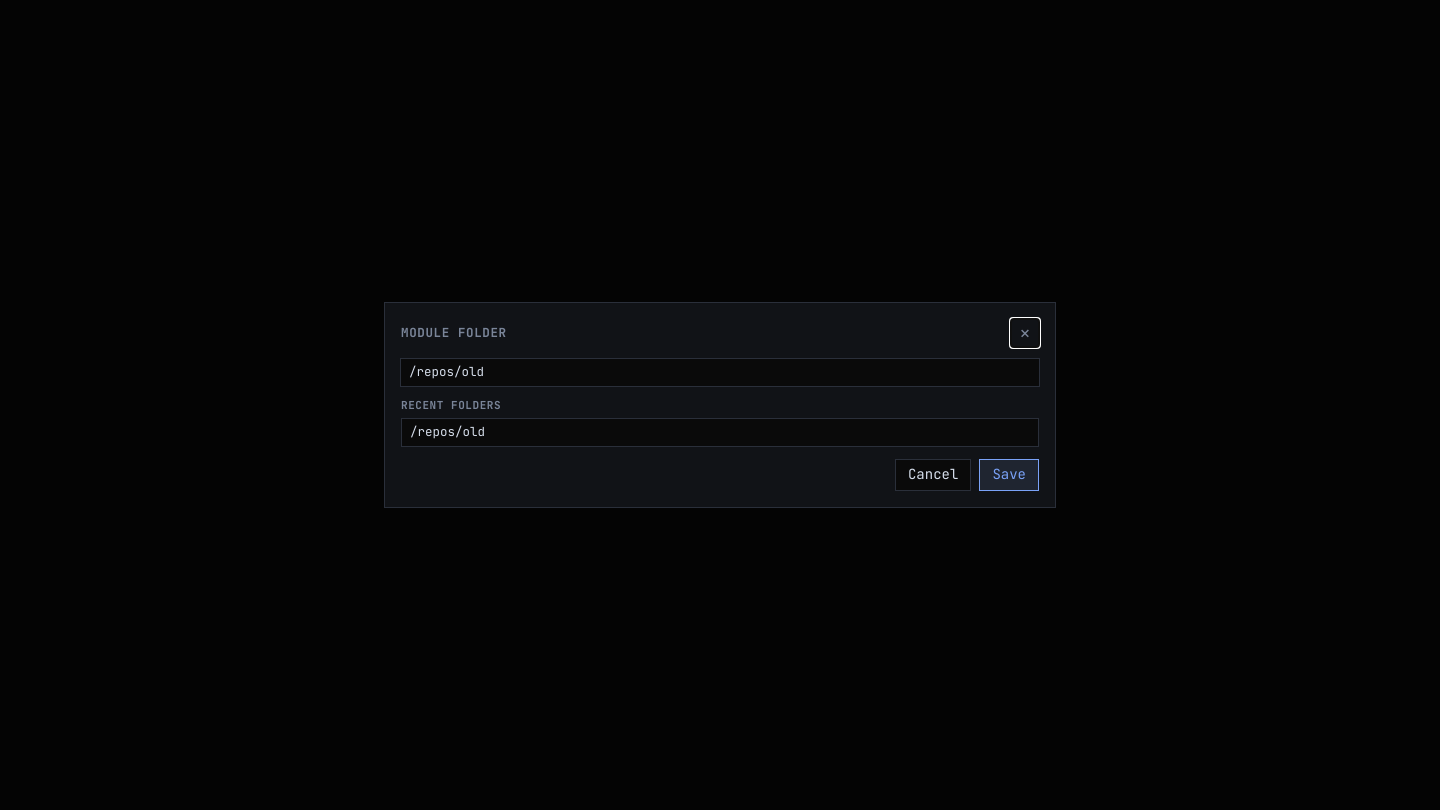
provider directory trust acceptance › [overhaul-301] saves an already-trusted folder without confirmation
Step 1. Replace the text in the field with "/repos/new" → (720, 373), box [401,359,1039,386]
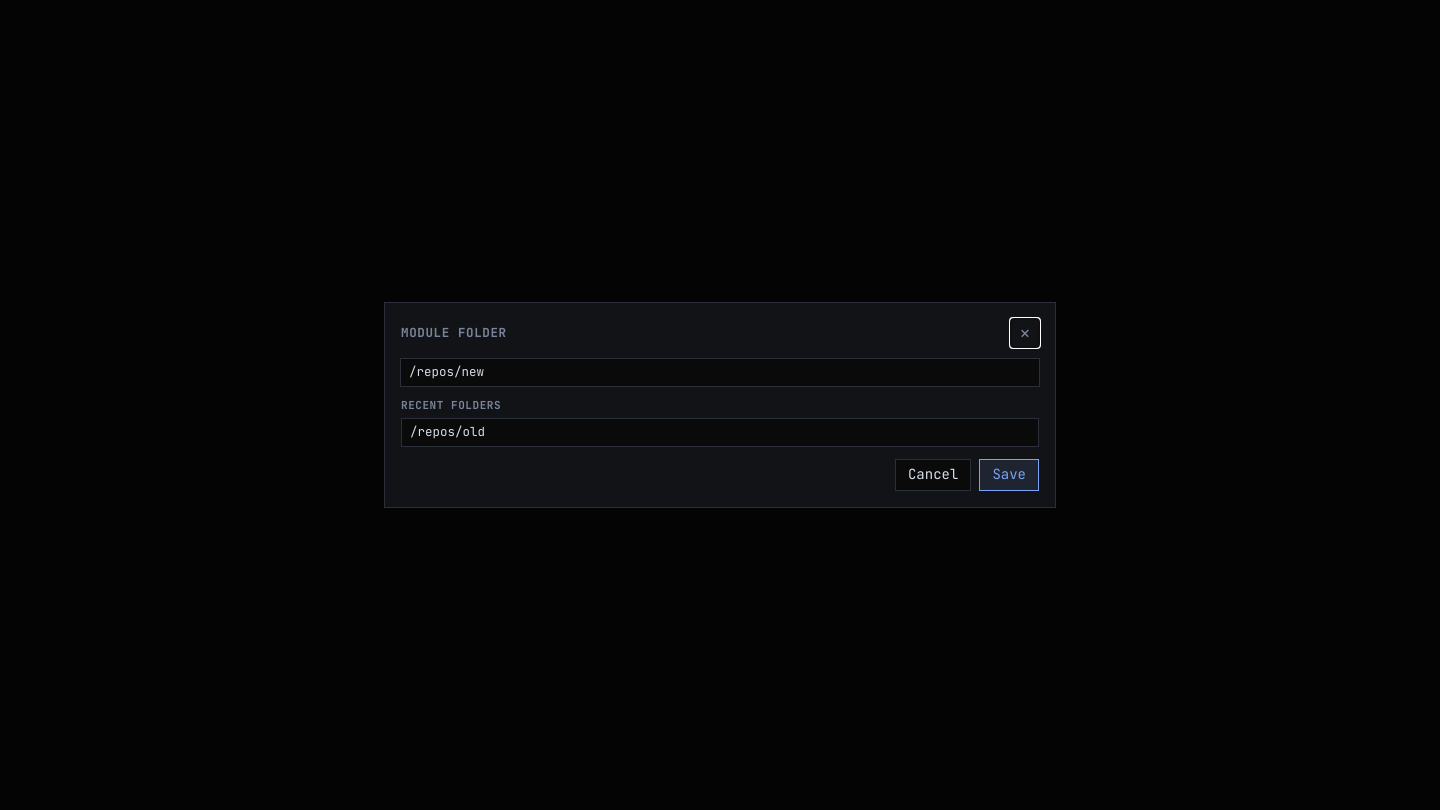
Step 2. Click the button "Save" → (1009, 475), box [979,459,1039,491]
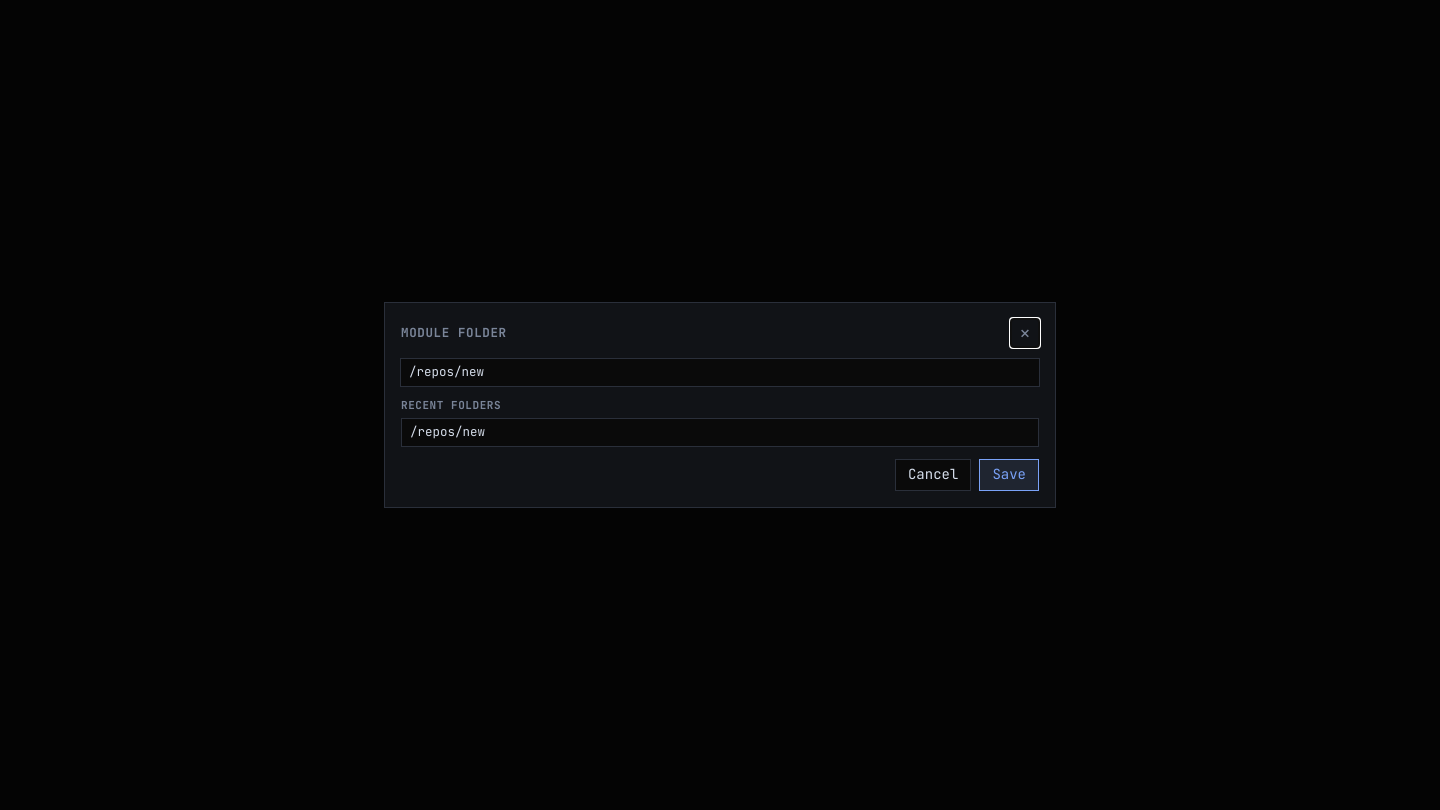
Now the list item "/repos/new" is shown, box [410,423,485,440]
